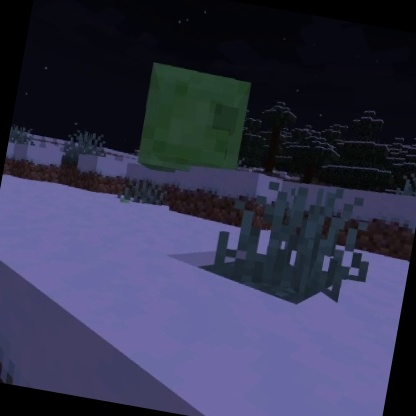slime: (128, 57, 258, 186)
